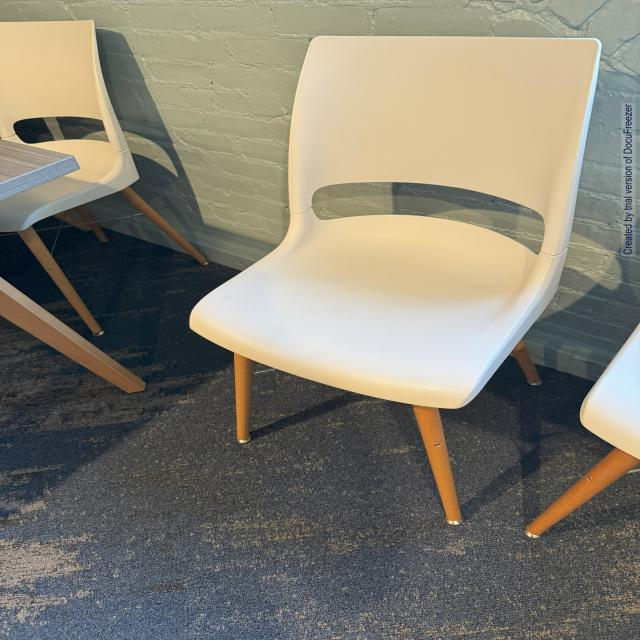chair: (187, 29, 618, 557)
